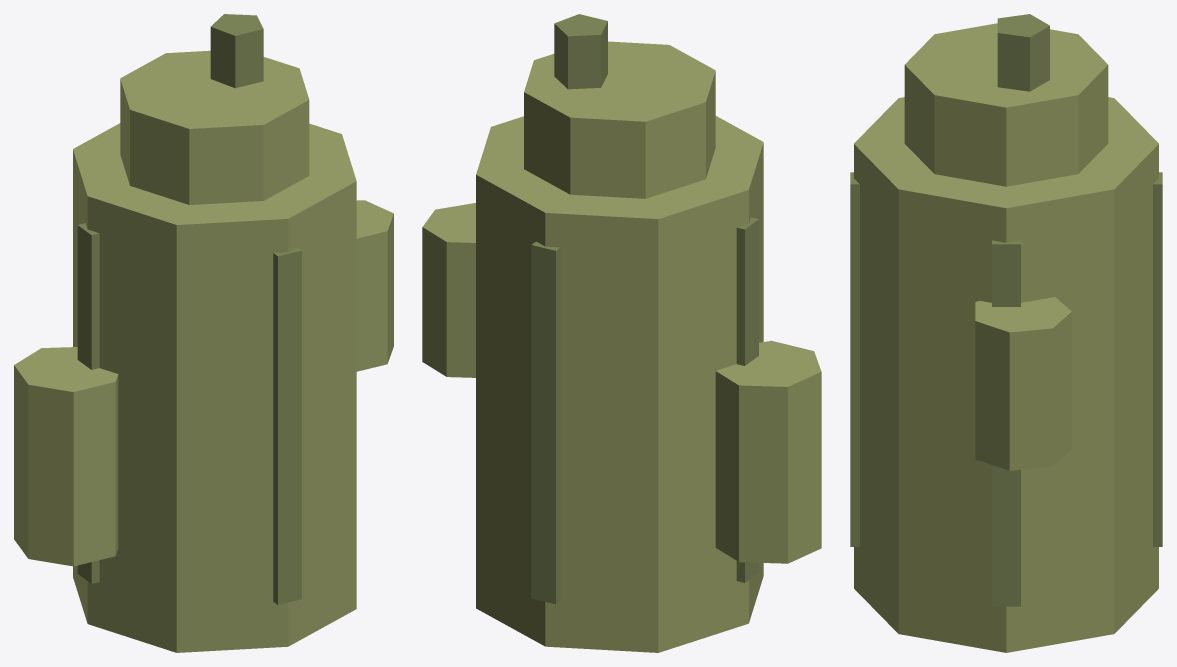
Rendered from prop_barrel_cactus.glb.
The picture shows the model from 3 angles, left to right: view 1: azimuth 30°, elevation 25°; view 2: azimuth 150°, elevation 25°; view 3: azimuth 270°, elevation 25°; orthographic projection. The views are drawn at different scales.
Visible parts, largest first — view 1: body_barrel, accent_ribs; view 2: body_barrel, accent_ribs; view 3: body_barrel, accent_ribs.
Part boxes in pixels (<box>): body_barrel: <box>14,50,393,652</box>; accent_ribs: <box>77,14,301,604</box>; body_barrel: <box>422,41,821,652</box>; accent_ribs: <box>531,14,758,604</box>; body_barrel: <box>854,23,1158,652</box>; accent_ribs: <box>850,14,1162,606</box>.
Bounding box in the file's own units: 1.23 × 1.75 × 0.86.
